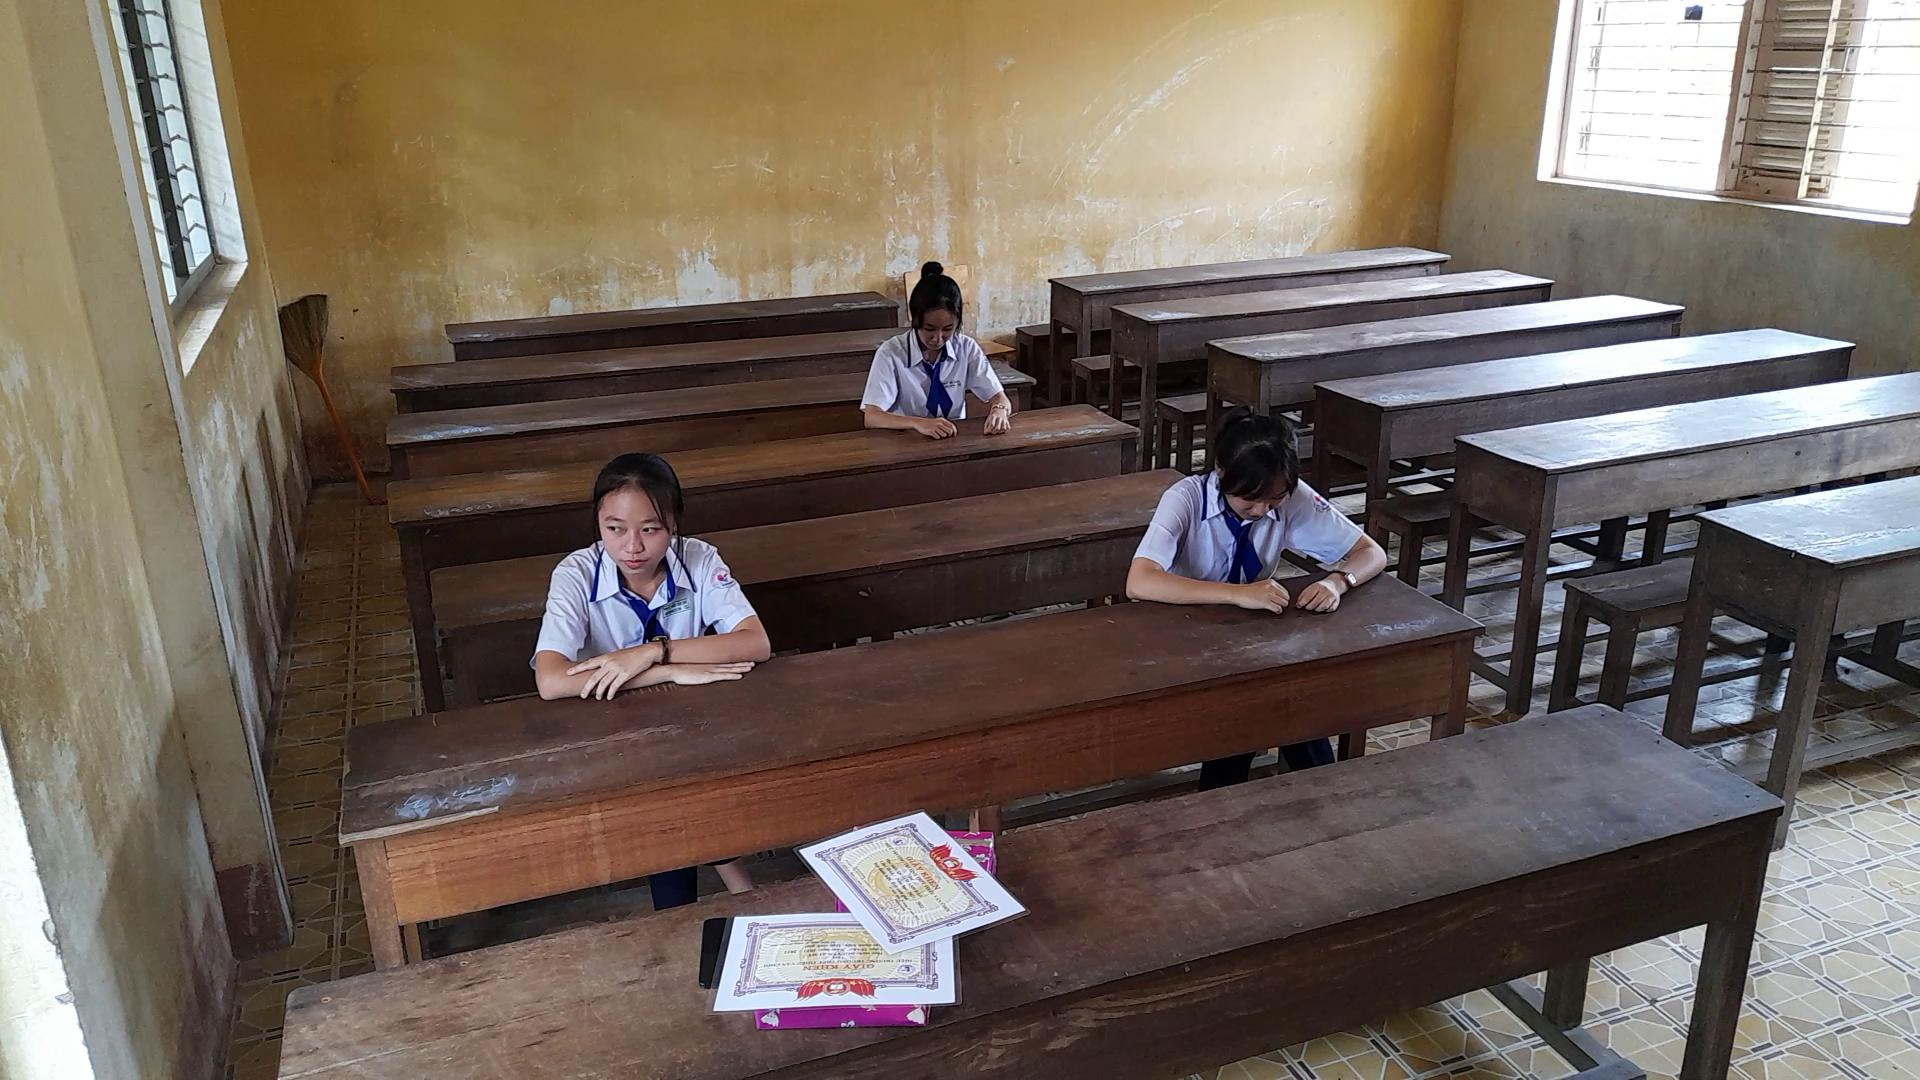Bend Over The Desk: (1184, 382, 1321, 527), (887, 249, 988, 357)
Normal: (527, 444, 773, 699)
